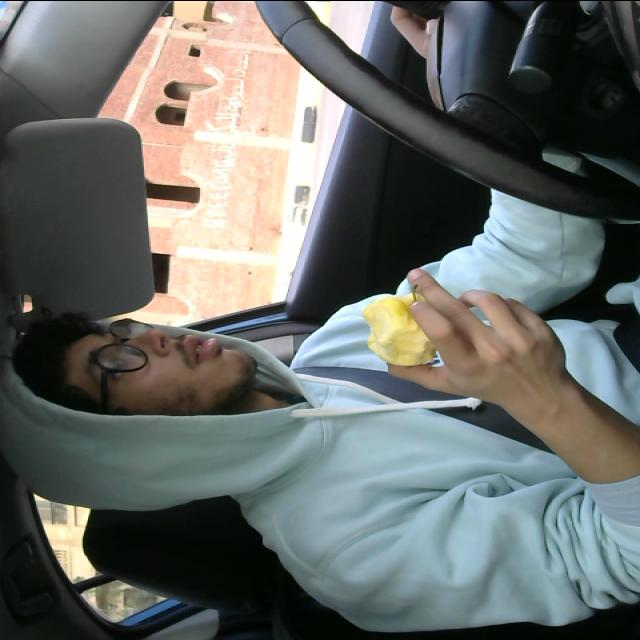eating: (338, 293, 443, 373)
